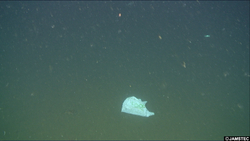plastic bag: (120, 93, 156, 119)
